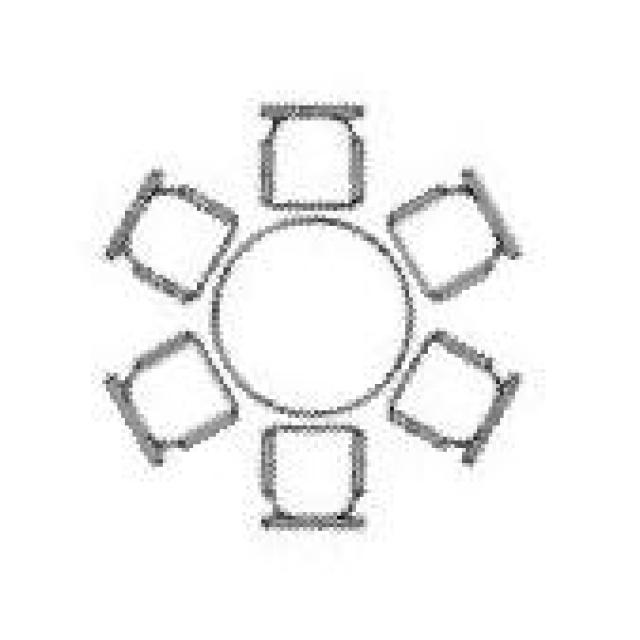table: (87, 98, 530, 527)
